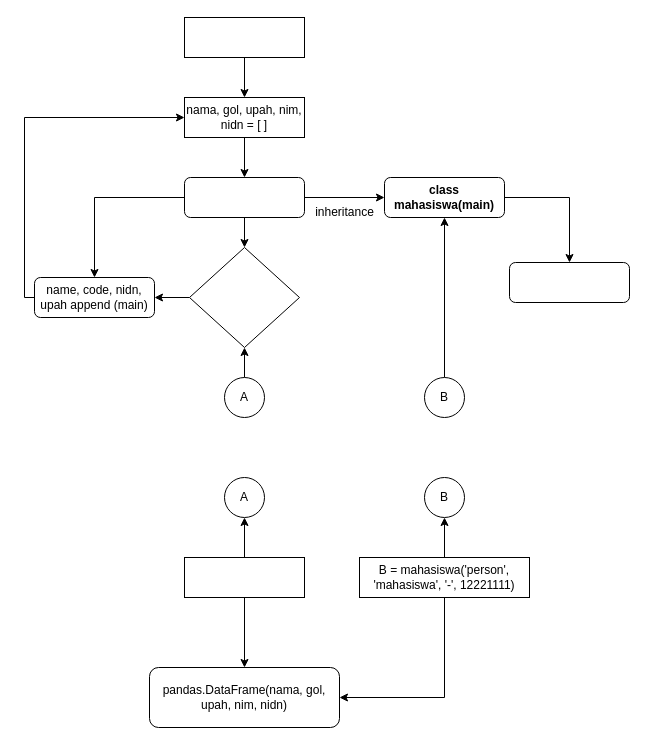
Some shapes in this 647 by 745 pixel diagram are drawn without their labels. The shapes that lost their labels are listed below. From the top down, each one's box as (x1, y1, x2, y2) in pixels, then its label:
(184, 16, 304, 58): import pandas
(184, 176, 304, 218): class main (name, code, nidn)
(188, 246, 300, 348): (if guru == 20, else 15).append(upah)
(508, 262, 630, 302): nim append (mahasiswa)
(184, 556, 304, 598): A = main('person', 'dosen', 12221111)
